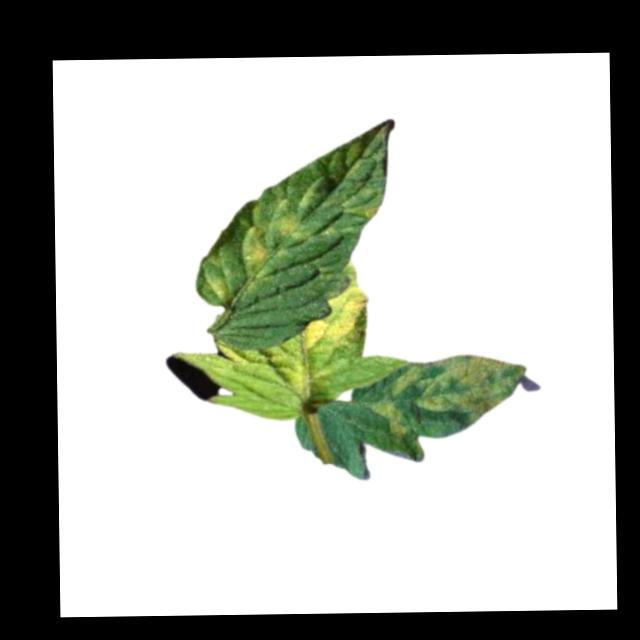Leaf_Mold: (373, 352, 528, 461), (300, 257, 370, 356), (236, 202, 308, 277), (199, 251, 235, 304)
